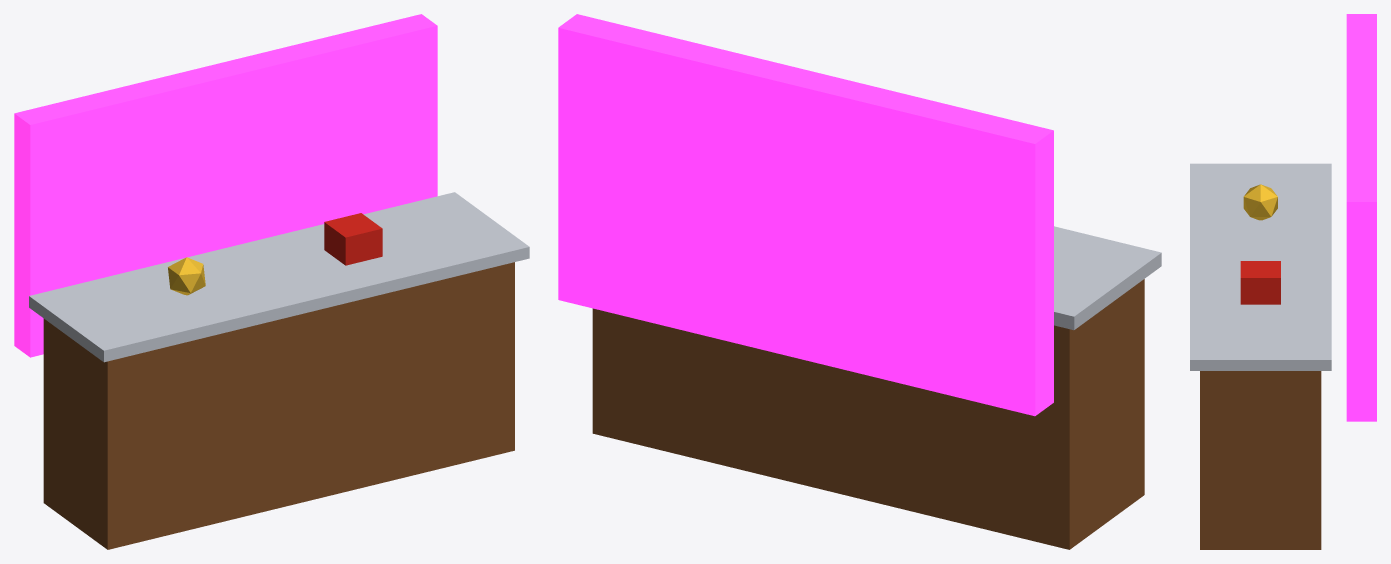
File: snack_bar.glb
The picture shows the model from 3 angles, left to right: view 1: azimuth 30°, elevation 25°; view 2: azimuth 150°, elevation 25°; view 3: azimuth 270°, elevation 25°; orthographic projection. The views are drawn at different scales.
Visible parts, largest first — view 1: snack_bar; view 2: snack_bar; view 3: snack_bar.
Part boxes in pixels (<box>): snack_bar: <box>14,14,529,549</box>; snack_bar: <box>558,14,1161,549</box>; snack_bar: <box>1190,14,1376,549</box>.
Bounding box in the file's own units: 2.3 × 1.9 × 0.925.
